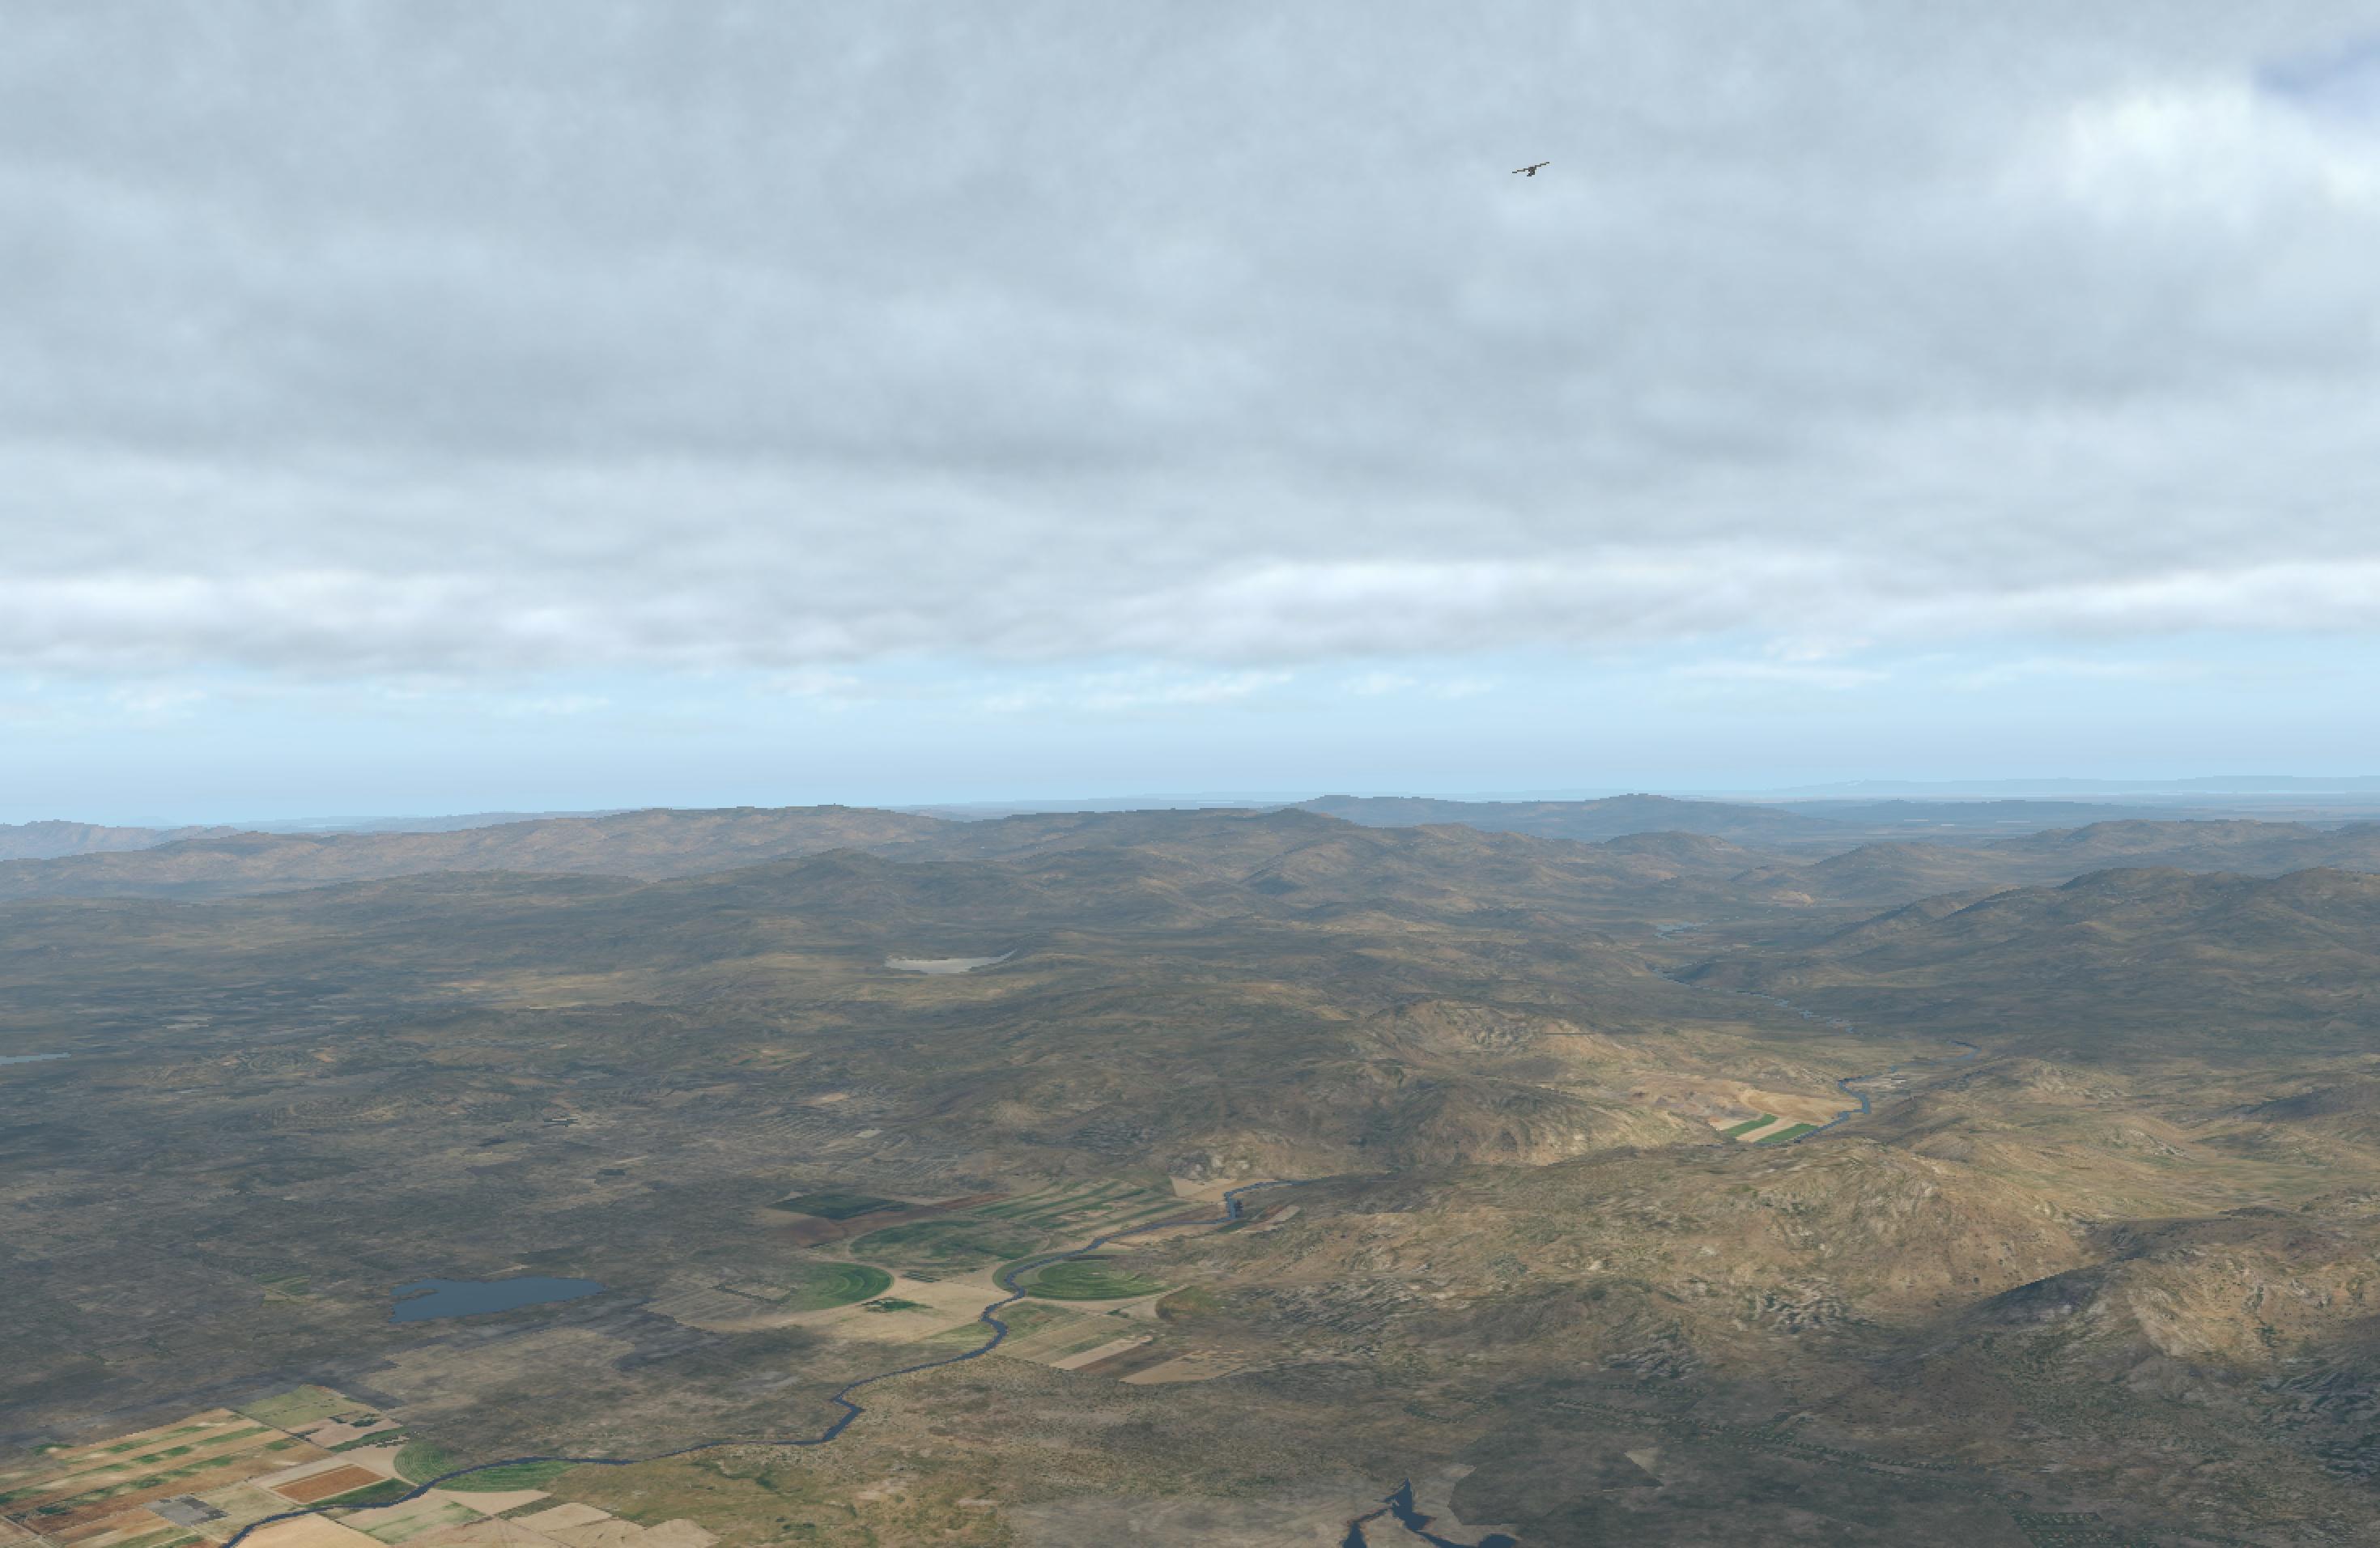aircraft: (1520, 165, 1546, 174)
